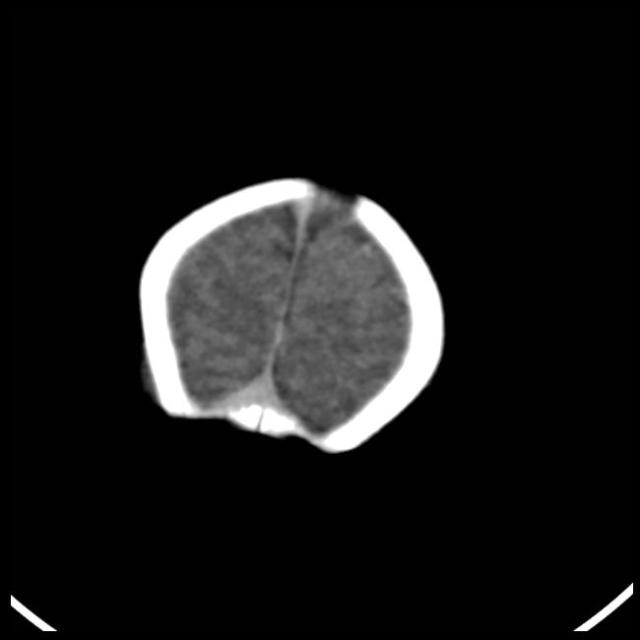lesion: (130, 168, 451, 459)
